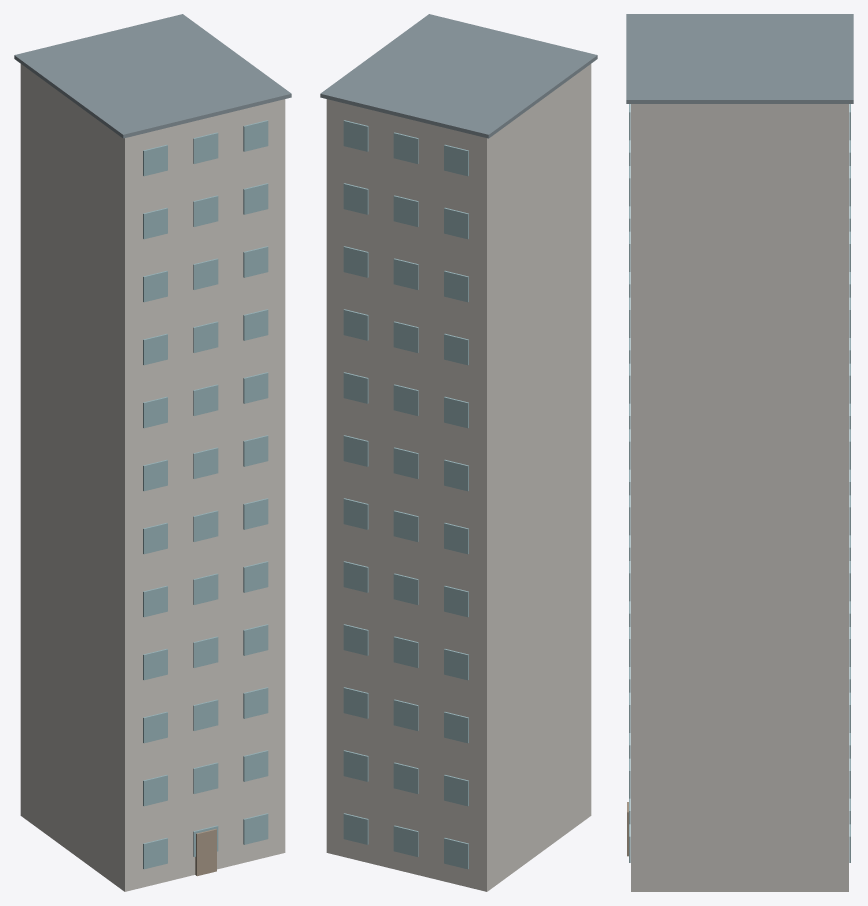
The model's file is exterior.glb.
3 renders of one model, left to right at view 1: azimuth 30°, elevation 25°; view 2: azimuth 150°, elevation 25°; view 3: azimuth 270°, elevation 25°, orthographic. The views are drawn at different scales.
Parts seen in each view (by area): view 1: geometry_0, geometry_2, geometry_1, geometry_3; view 2: geometry_0, geometry_2, geometry_1; view 3: geometry_0, geometry_1, geometry_2.
Part boxes in pixels (bbox=[...]): geometry_0: bbox=[20, 64, 285, 891]; geometry_2: bbox=[143, 120, 268, 869]; geometry_1: bbox=[14, 14, 291, 138]; geometry_3: bbox=[195, 829, 216, 876]; geometry_0: bbox=[326, 64, 591, 891]; geometry_2: bbox=[343, 120, 468, 869]; geometry_1: bbox=[320, 14, 597, 138]; geometry_0: bbox=[631, 104, 848, 891]; geometry_1: bbox=[626, 14, 853, 103]; geometry_2: bbox=[629, 104, 850, 862].
Size of the model in its own units: 8.4 by 36.18 by 9.4.
